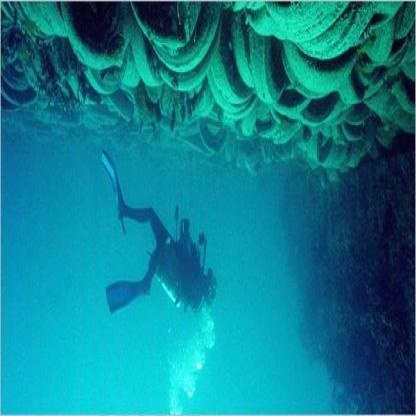tire: (0, 1, 416, 170)
